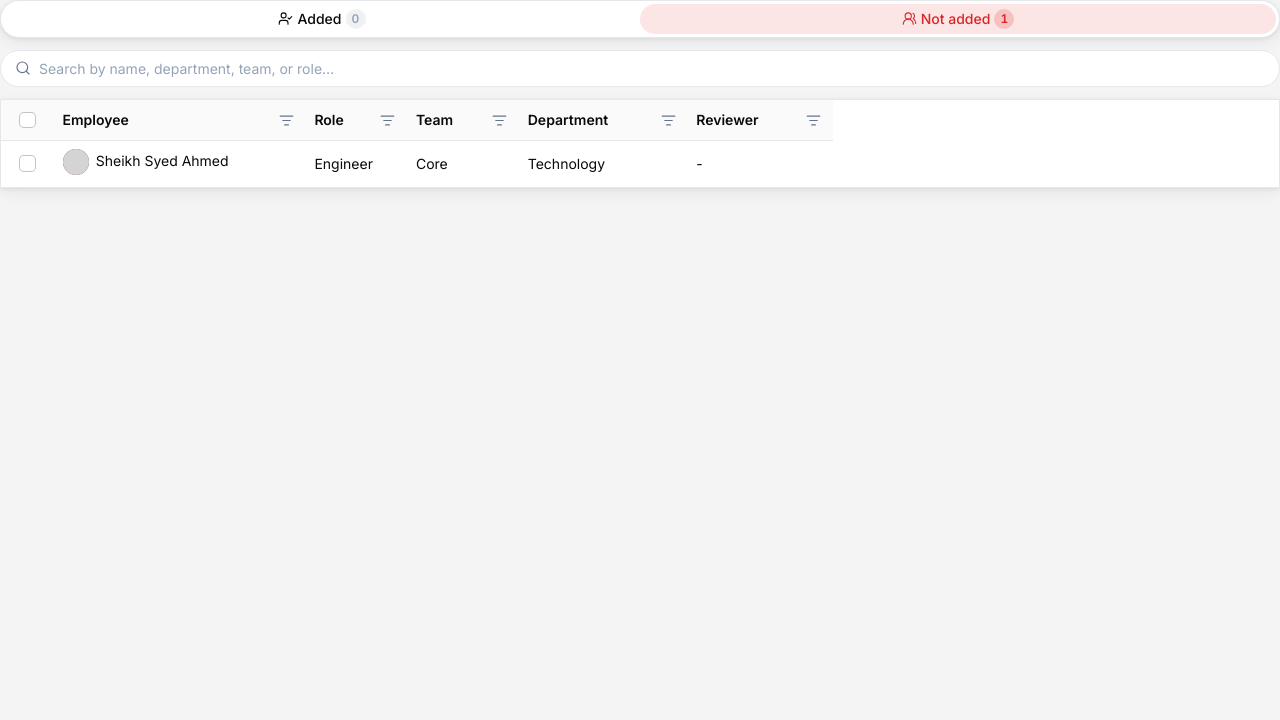
Scenario: GroupMembersEditor › saves an addition when the confirmation modal is confirmed
This screenshot has width=1280, height=720.
Click the checkbox named "Select Sheikh Syed Ahmed": [28, 164] box [19,155,36,172]
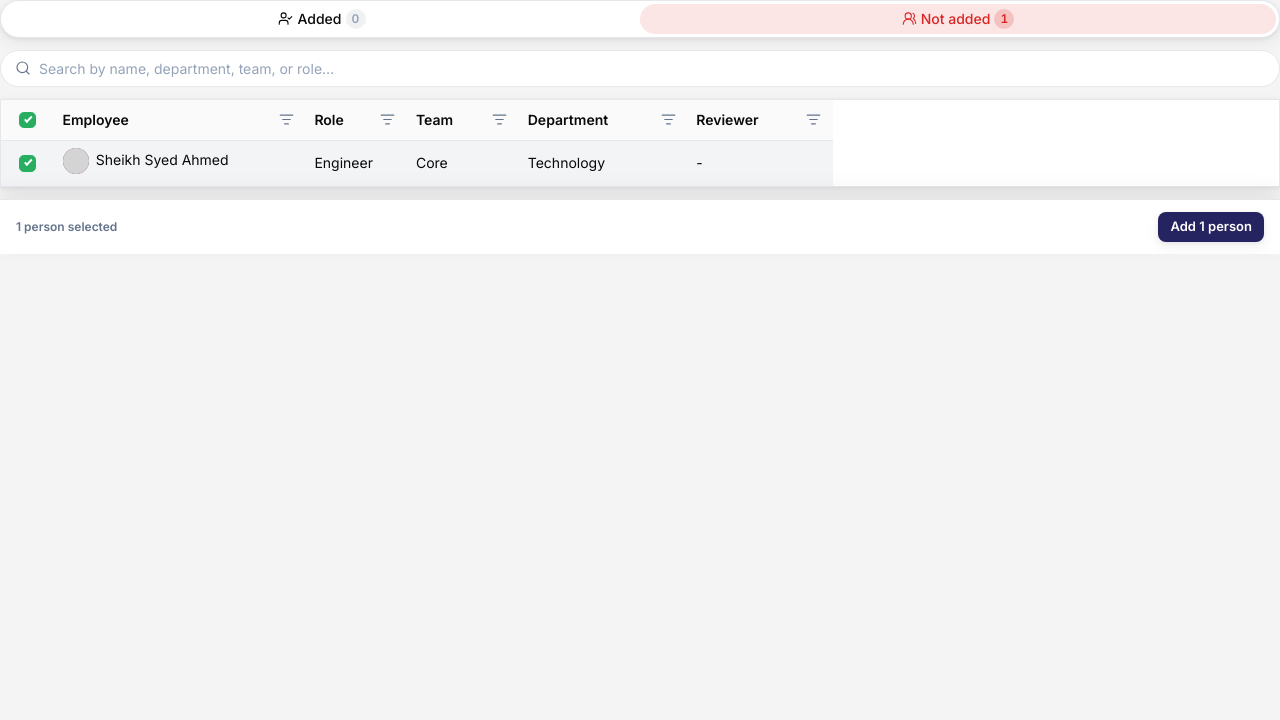
Click the button "Add 1 person": [1211, 227] box [1158,212,1264,242]
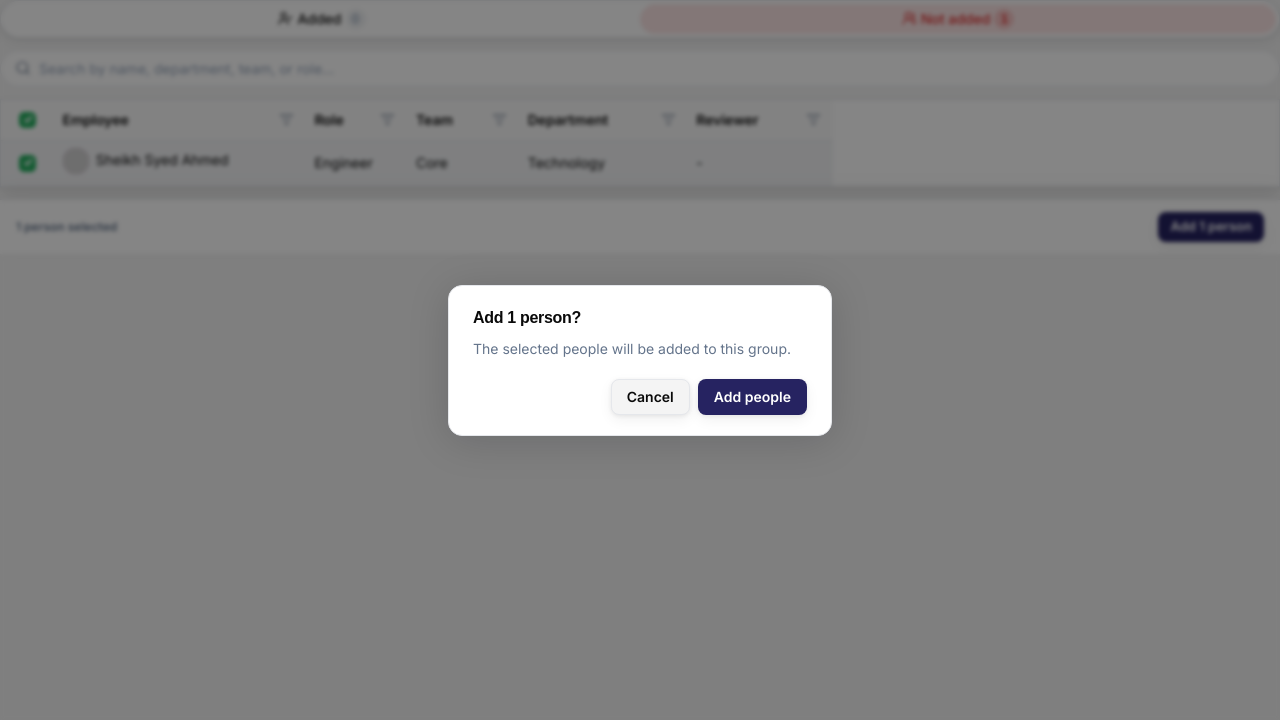
Click the button "Add people": [752, 396] box [698,378,807,414]
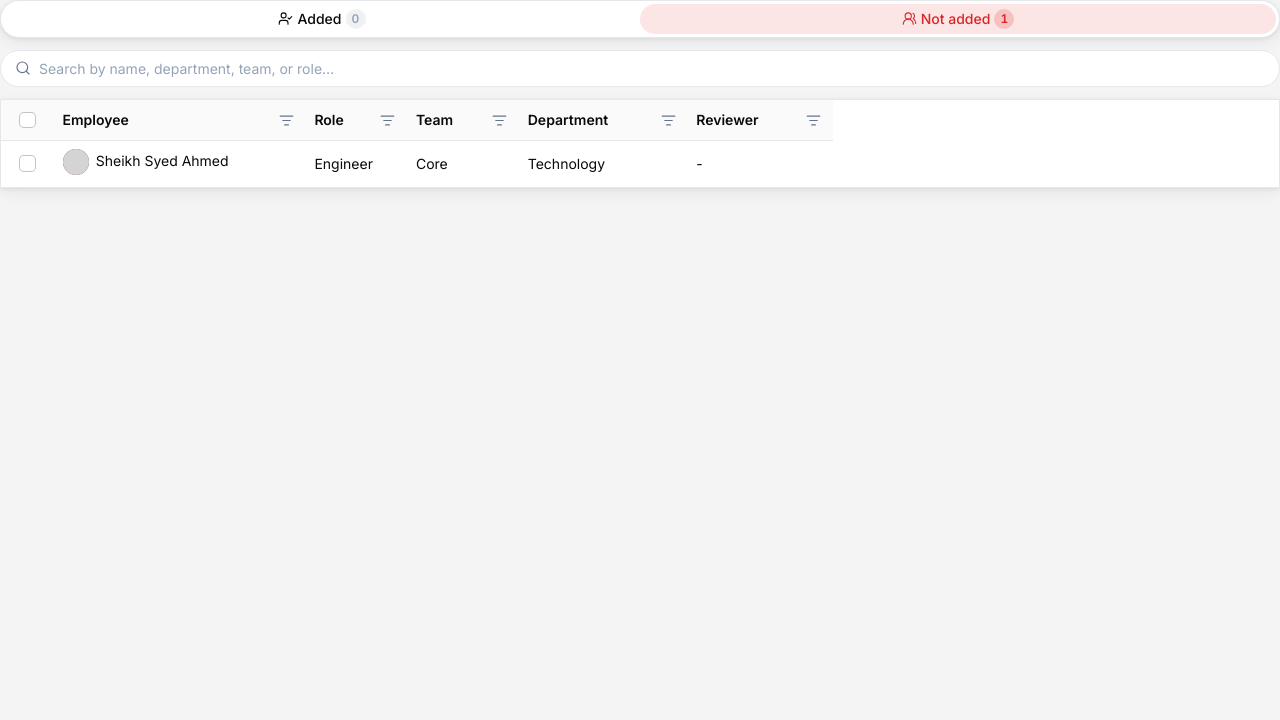
Expected: the button "Add 1 person?" is gone
